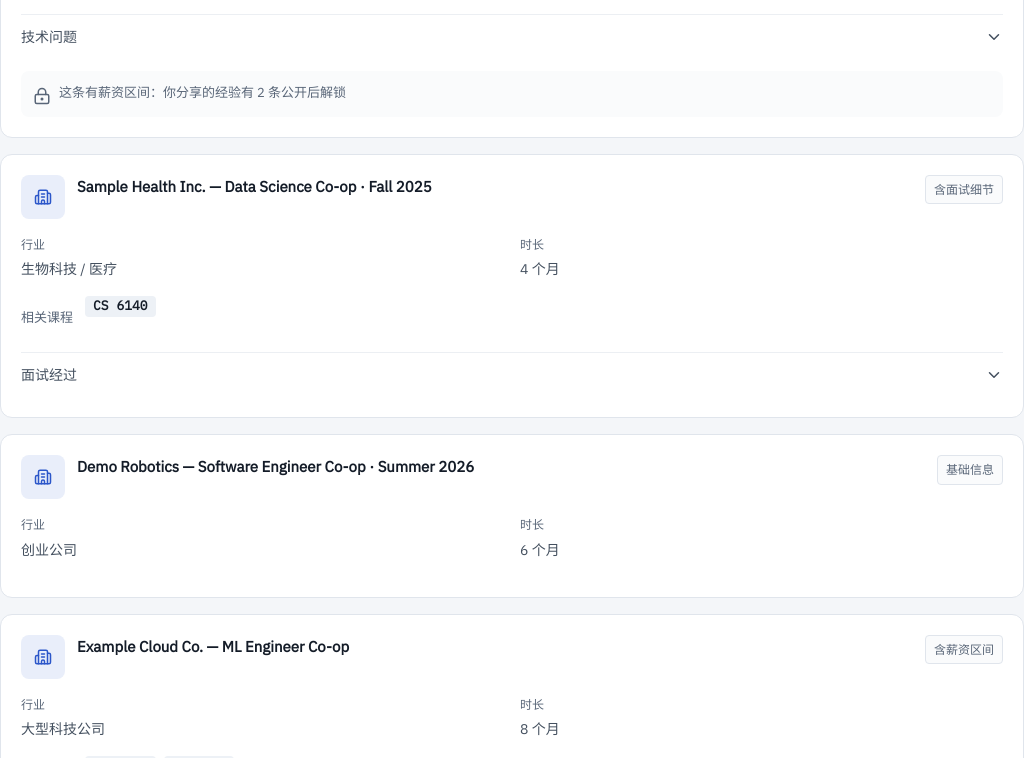
returned interview fields use collapsed native details
(page scrolled)
Expected: the text "一轮行为面加一轮技术面，技术面主要聊做过的机器学习项目。" is not shown
Click the heading "面试经过" below "生物科技 / 医疗".
click(49, 375)  # box [21,366,1003,384]
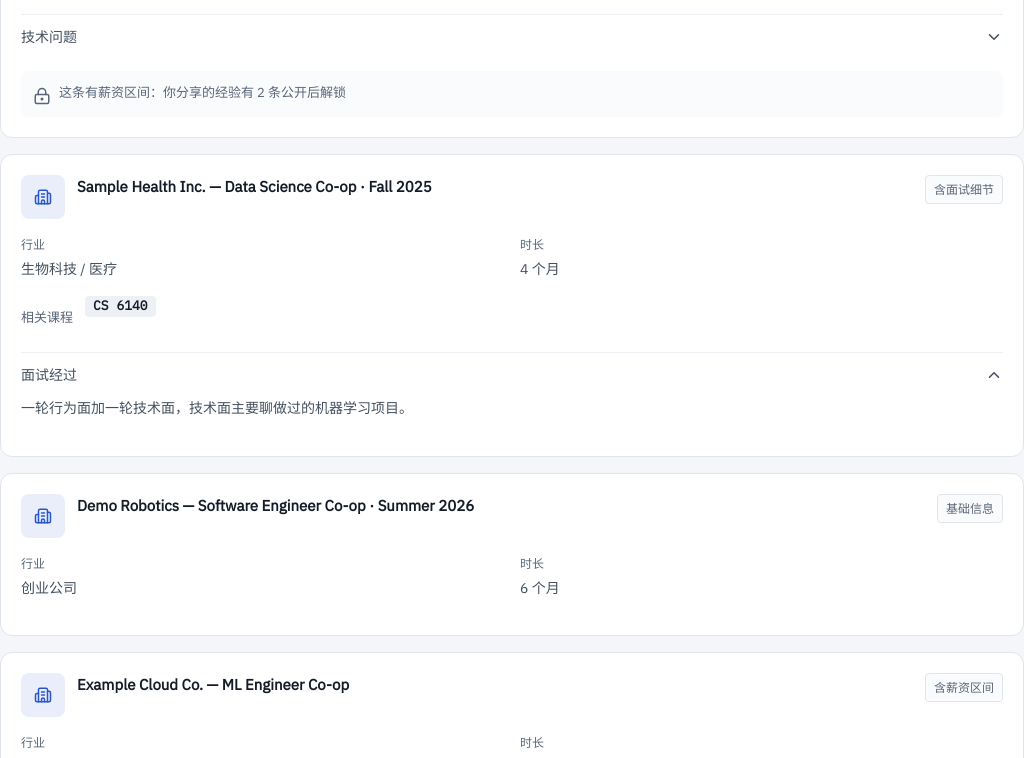
Expected: the text "一轮行为面加一轮技术面，技术面主要聊做过的机器学习项目。" is shown, [21,399,413,417]
